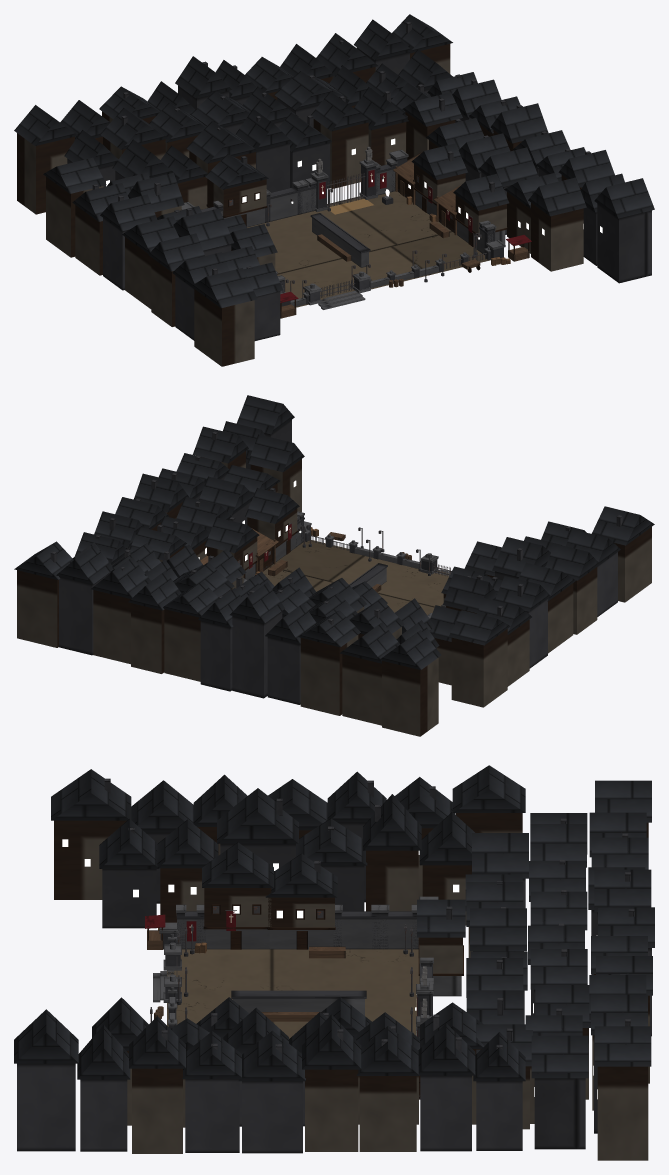
The model's file is town_stables_04.glb.
The picture shows the model from 3 angles, top to bottom: view 1: azimuth 30°, elevation 25°; view 2: azimuth 150°, elevation 25°; view 3: azimuth 270°, elevation 25°; orthographic projection. The views are drawn at different scales.
Parts seen in each view (by area): view 1: _MeshInstance3D_2594, _MeshInstance3D_2931, _MeshInstance3D_3056, _MeshInstance3D_3020, _MeshInstance3D_2704, _MeshInstance3D_2656, _MeshInstance3D_2909, _MeshInstance3D_2932, _MeshInstance3D_2646, _MeshInstance3D_3057, _MeshInstance3D_2898, _MeshInstance3D_2912 (+73 smaller); view 2: _MeshInstance3D_2594, _MeshInstance3D_2704, _MeshInstance3D_2909, _MeshInstance3D_2709, _MeshInstance3D_2738, _MeshInstance3D_2715, _MeshInstance3D_2735, _MeshInstance3D_2706, _MeshInstance3D_2730, _MeshInstance3D_2723, _MeshInstance3D_2727, _MeshInstance3D_2719 (+60 smaller); view 3: _MeshInstance3D_2594, _MeshInstance3D_3056, _MeshInstance3D_2738, _MeshInstance3D_3036, _MeshInstance3D_3041, _MeshInstance3D_3033, _MeshInstance3D_3049, _MeshInstance3D_3045, _MeshInstance3D_2931, _MeshInstance3D_3028, _MeshInstance3D_2701, _MeshInstance3D_3053 (+78 smaller).
Boxes of the visible parts, box(x1,y1,x2,y2) form: _MeshInstance3D_2594: box(247, 191, 490, 307); _MeshInstance3D_2931: box(194, 289, 254, 366); _MeshInstance3D_3056: box(597, 203, 651, 283); _MeshInstance3D_3020: box(531, 202, 583, 271); _MeshInstance3D_2704: box(17, 133, 74, 214); _MeshInstance3D_2656: box(313, 119, 368, 188); _MeshInstance3D_2909: box(46, 176, 103, 257); _MeshInstance3D_2932: box(191, 268, 257, 308); _MeshInstance3D_2646: box(186, 121, 258, 163); _MeshInstance3D_3057: box(594, 178, 654, 218); _MeshInstance3D_2898: box(173, 208, 233, 250); _MeshInstance3D_2912: box(75, 205, 102, 275); _MeshInstance3D_2594: box(263, 540, 448, 615); _MeshInstance3D_2704: box(382, 657, 438, 736); _MeshInstance3D_2909: box(451, 629, 507, 707); _MeshInstance3D_2709: box(300, 635, 358, 715); _MeshInstance3D_2738: box(17, 570, 58, 647); _MeshInstance3D_2715: box(232, 611, 282, 698); _MeshInstance3D_2735: box(59, 572, 110, 655); _MeshInstance3D_2706: box(342, 654, 381, 725); _MeshInstance3D_2730: box(93, 590, 130, 664); _MeshInstance3D_2723: box(164, 609, 200, 681); _MeshInstance3D_2727: box(131, 603, 164, 673); _MeshInstance3D_2719: box(200, 620, 232, 691); _MeshInstance3D_2594: box(167, 949, 419, 1038); _MeshInstance3D_3056: box(17, 1063, 75, 1151); _MeshInstance3D_2738: box(597, 1066, 648, 1160); _MeshInstance3D_3036: box(305, 1069, 358, 1151); _MeshInstance3D_3041: box(242, 1081, 302, 1153); _MeshInstance3D_3033: box(359, 1076, 416, 1151); _MeshInstance3D_3049: box(132, 1068, 182, 1153); _MeshInstance3D_3045: box(185, 1079, 239, 1152); _MeshInstance3D_2931: box(54, 820, 126, 899); _MeshInstance3D_3028: box(420, 1075, 471, 1151); _MeshInstance3D_2701: box(534, 1078, 585, 1149); _MeshInstance3D_3053: box(80, 1079, 127, 1151).
Size of what is drawn, in the model's own units: 66.56 by 15.32 by 63.07.
Materials: 17 (11 with a texture image).
